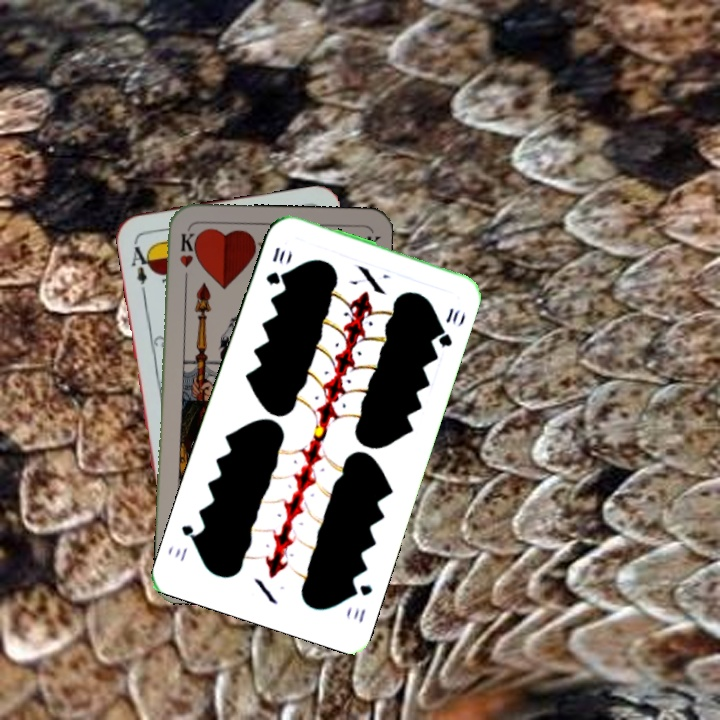EA: (127, 237, 155, 296)
G10: (346, 580, 375, 626), (262, 243, 289, 288)
HK: (176, 229, 197, 287)
